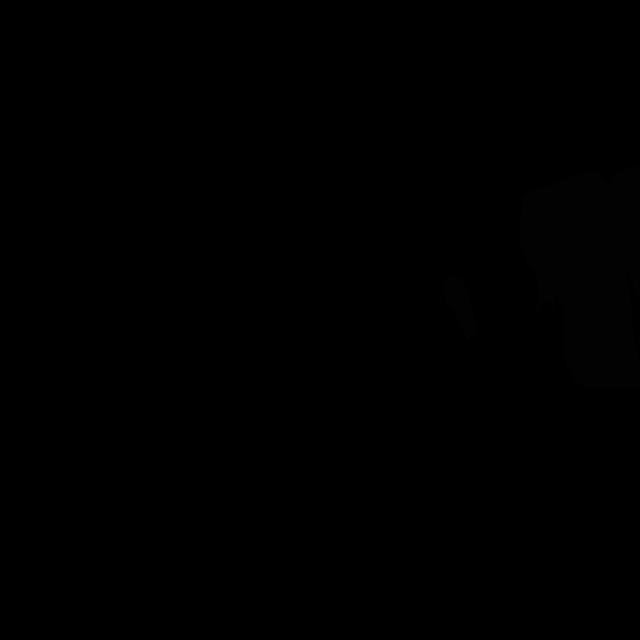cardboard: (518, 170, 640, 390), (608, 164, 640, 303), (443, 276, 476, 340)
